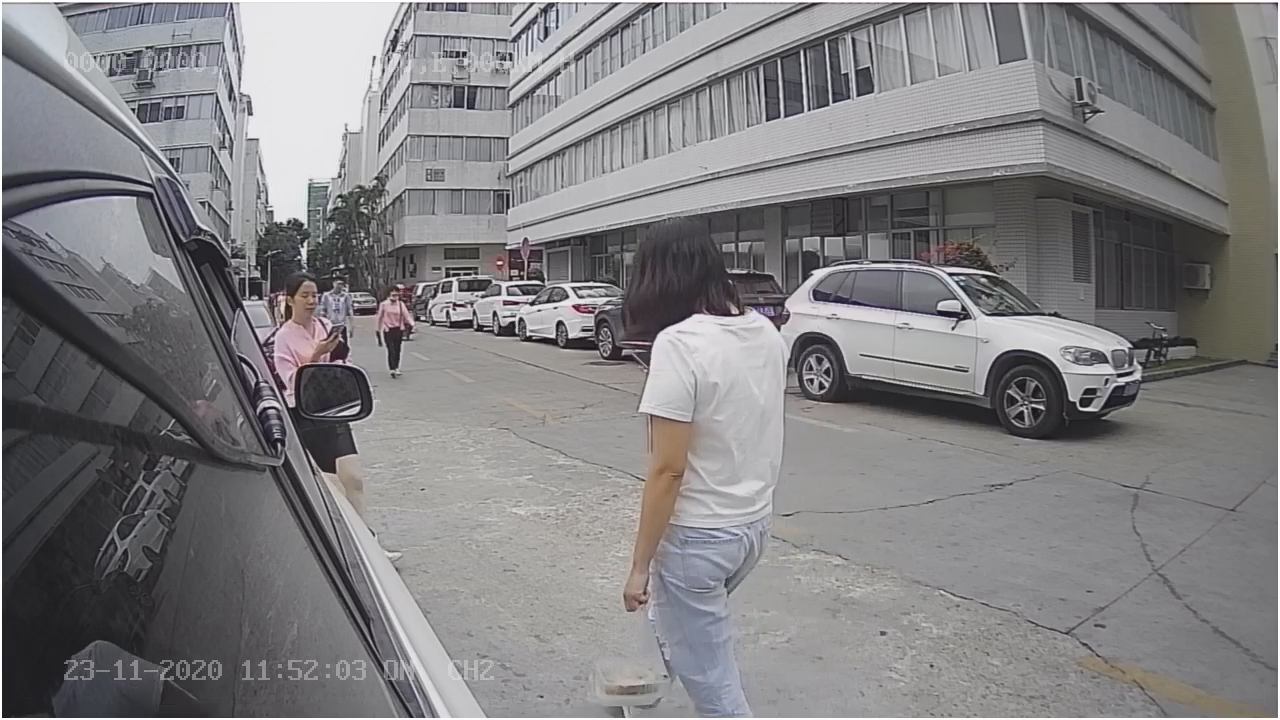person: (617, 201, 792, 558)
